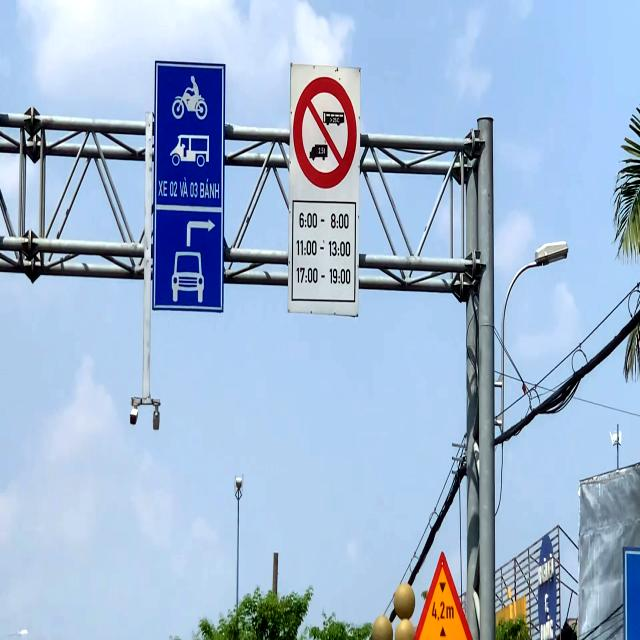S.509a: (411, 548, 476, 640)
